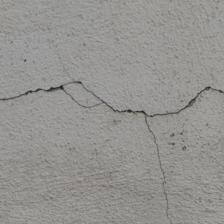Crack: (3, 78, 223, 120), (142, 116, 177, 222)
